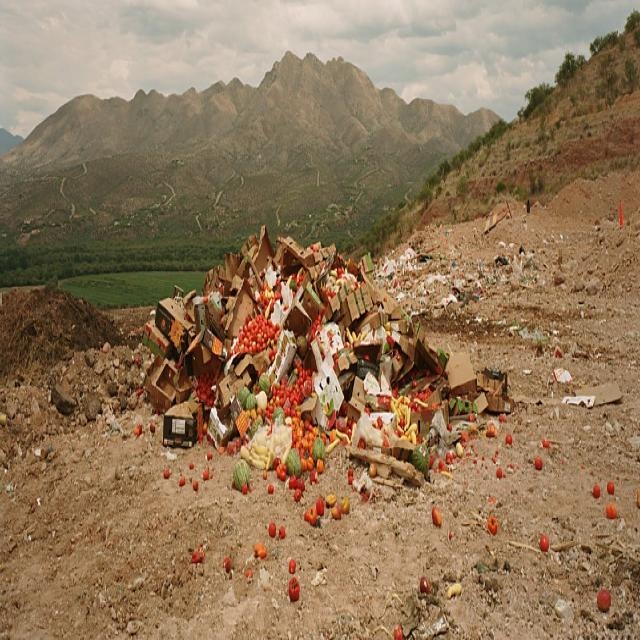cardboard: (235, 336, 363, 518), (154, 277, 217, 368), (332, 277, 383, 339)
heap: (145, 186, 523, 506)
